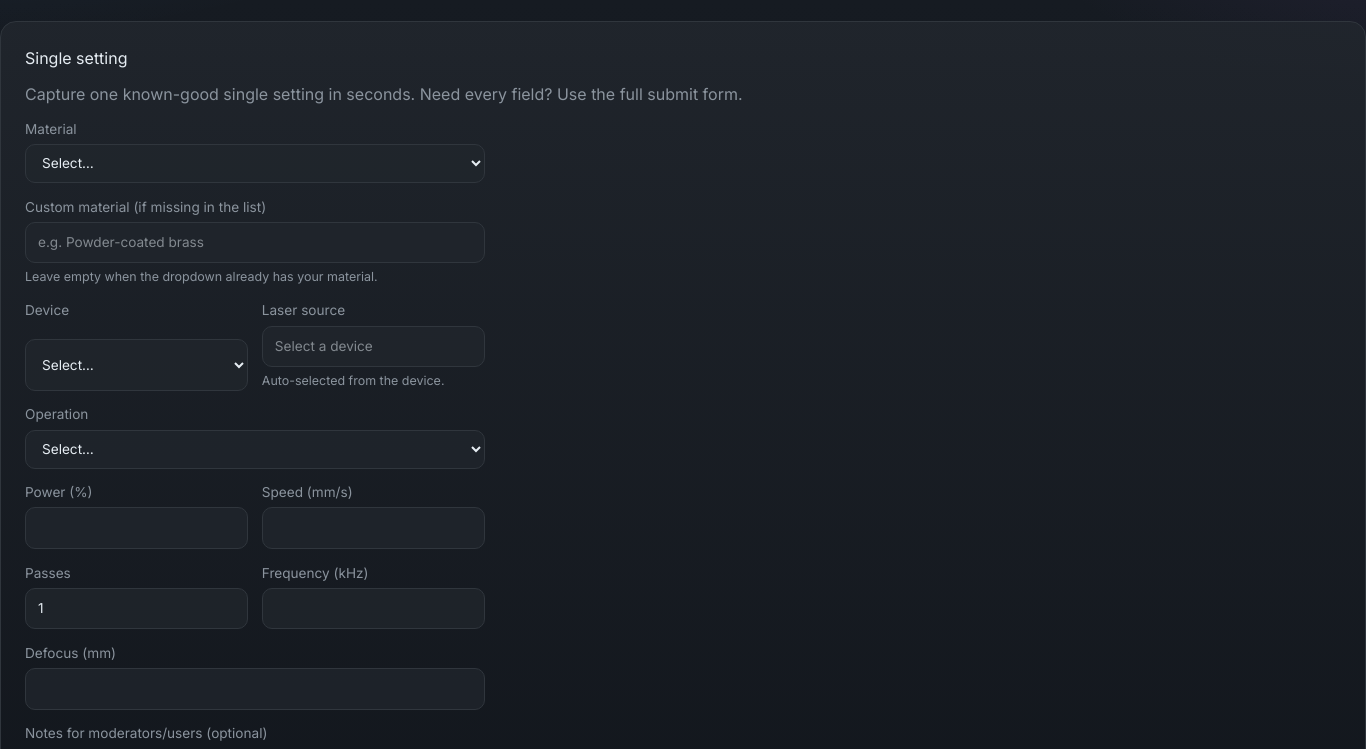
Scenario: QuickSubmitPage › auto-selects single laser devices and hides manual source selection
The width and height of the screenshot is (1366, 749).
Select "F2 Ultra UV" in the dropdown labelled "Device": (137, 365) x1=25 y1=339 x2=248 y2=391
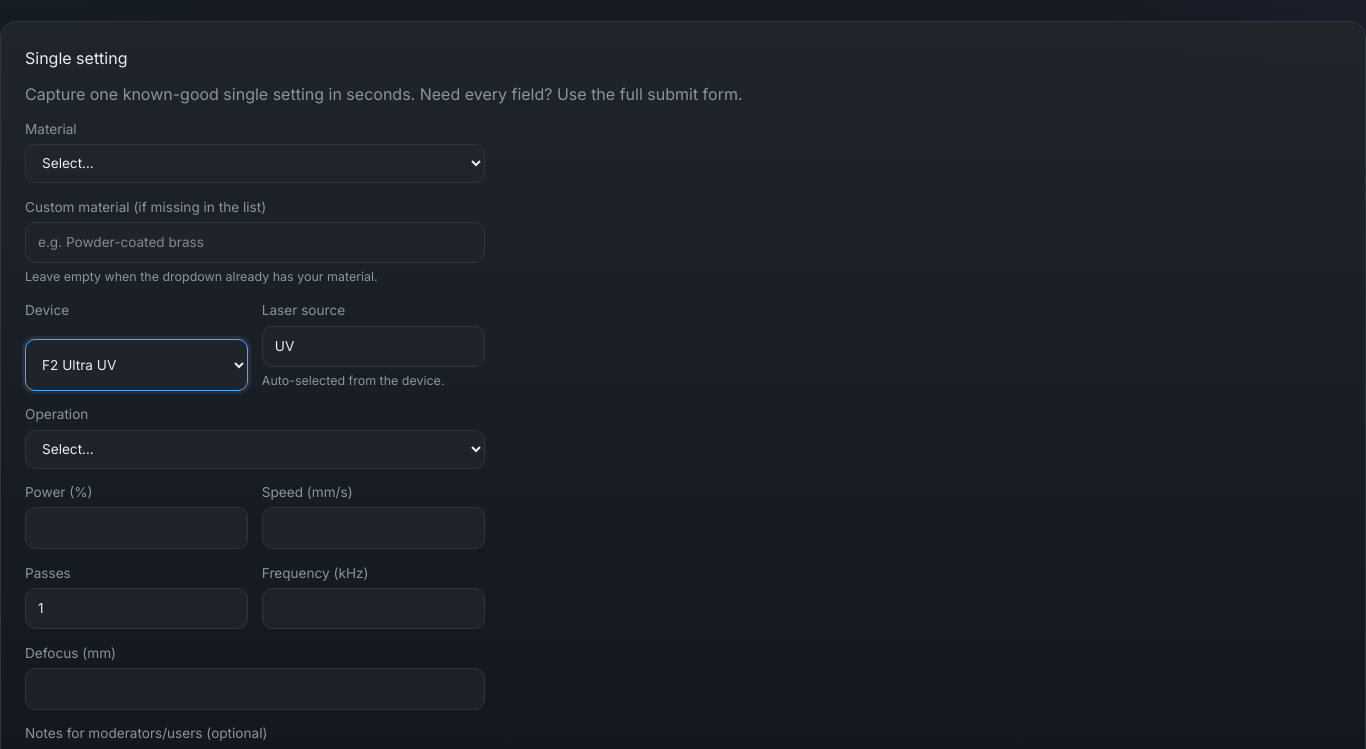
Now the field labelled "Laser source Auto-selected from the device." holds "UV", box x1=262 y1=326 x2=485 y2=367
